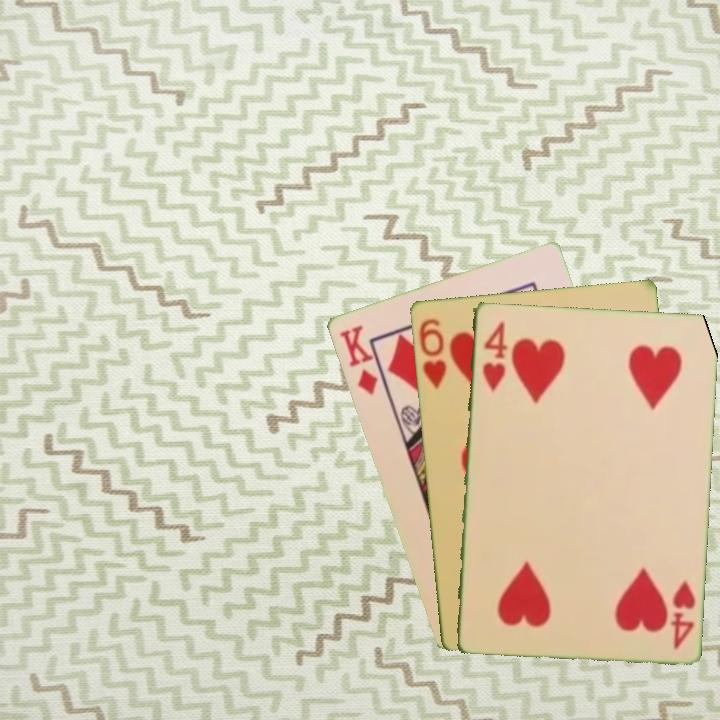4h: (667, 576, 698, 652), (478, 318, 508, 395)
6h: (415, 315, 449, 391)
Kd: (335, 321, 389, 398)
